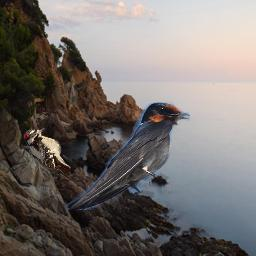Swallow: (66, 102, 190, 210)
Woodpecker: (24, 128, 71, 176)
